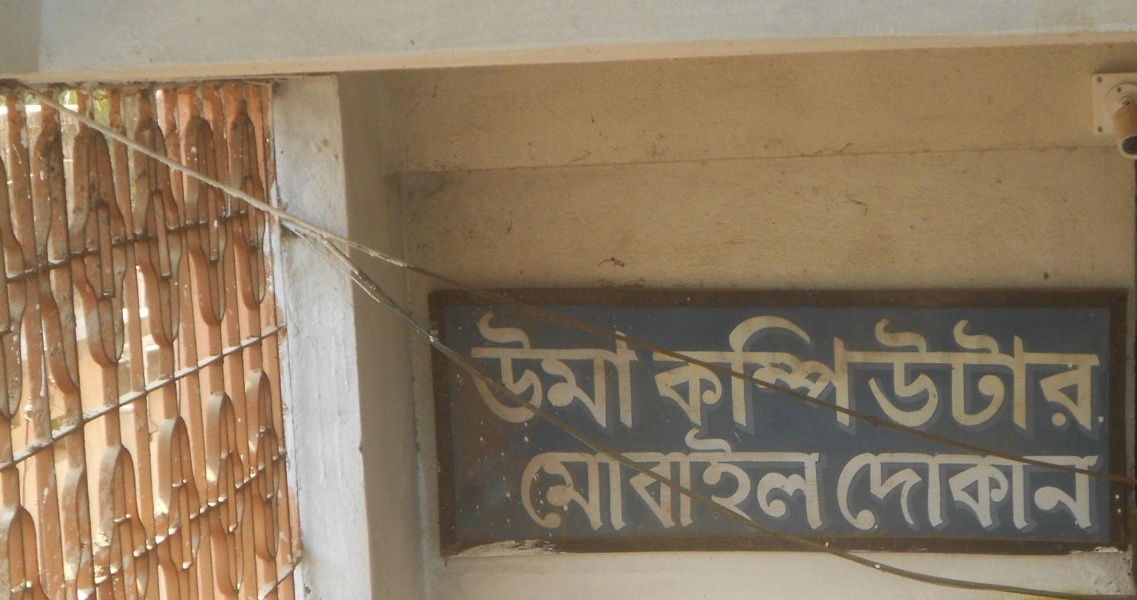text: (657, 310, 672, 434), (673, 310, 688, 434), (689, 310, 704, 434), (705, 310, 720, 434), (721, 310, 736, 434), (737, 310, 752, 434), (753, 310, 768, 434), (769, 310, 784, 434), (785, 310, 800, 434), (801, 310, 816, 434), (817, 310, 832, 434), (833, 310, 848, 434), (849, 310, 864, 434), (865, 310, 880, 434), (881, 310, 896, 434), (897, 310, 912, 434), (913, 310, 928, 434), (929, 310, 944, 434), (945, 310, 960, 434), (961, 310, 976, 434), (977, 310, 992, 434), (993, 310, 1008, 434), (1009, 310, 1024, 434), (1025, 310, 1040, 434), (1041, 310, 1056, 434), (1057, 310, 1072, 434), (1073, 310, 1088, 434), (1089, 310, 1104, 434), (481, 311, 496, 431), (497, 311, 512, 431), (513, 311, 528, 431), (529, 311, 544, 431), (545, 311, 560, 431), (561, 311, 576, 431), (577, 311, 592, 431), (593, 311, 608, 431), (609, 311, 624, 431), (625, 311, 640, 431), (529, 424, 544, 535), (545, 424, 560, 535), (561, 424, 576, 535), (577, 424, 592, 535), (593, 424, 608, 535), (609, 424, 624, 535), (625, 424, 640, 535), (641, 424, 656, 535), (657, 424, 672, 535), (673, 424, 688, 535), (689, 424, 704, 535), (705, 424, 720, 535), (721, 424, 736, 535), (737, 424, 752, 535), (753, 424, 768, 535), (769, 424, 784, 535), (785, 424, 800, 535), (801, 424, 816, 535), (467, 311, 480, 431), (514, 424, 528, 535), (833, 447, 848, 533), (849, 447, 864, 533), (865, 447, 880, 533), (881, 447, 896, 533), (897, 447, 912, 533), (913, 447, 928, 533), (929, 447, 944, 533), (945, 447, 960, 533), (961, 447, 976, 533), (977, 447, 992, 533), (993, 447, 1008, 533), (1009, 447, 1024, 533), (1025, 447, 1040, 533), (1041, 447, 1056, 533), (1057, 447, 1072, 533), (1073, 447, 1088, 533), (1089, 447, 1101, 533), (817, 424, 825, 535), (651, 310, 656, 434), (641, 311, 642, 431)
